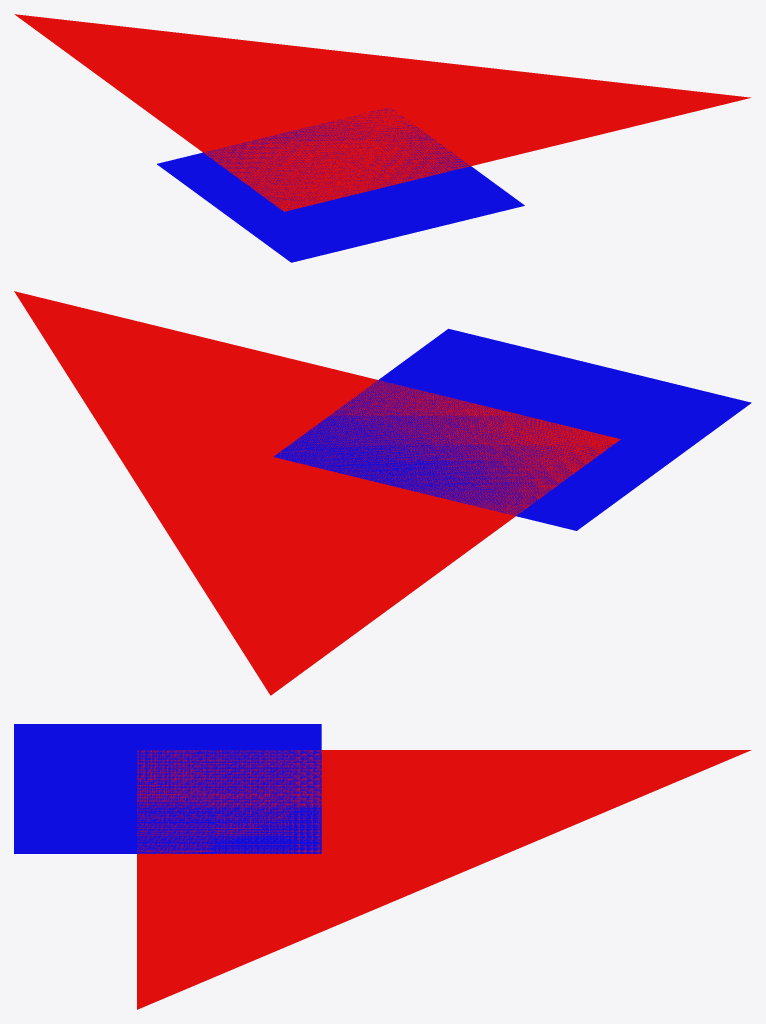
File: i1-sample.dae
3 renders of one model, top to bottom at view 1: azimuth 30°, elevation 25°; view 2: azimuth 150°, elevation 25°; view 3: azimuth 270°, elevation 25°, orthographic. The views are drawn at different scales.
Visible parts, largest first — view 1: LibraryTriangleNode, DirectPolyNode; view 2: LibraryTriangleNode, DirectPolyNode; view 3: LibraryTriangleNode, DirectPolyNode.
Part boxes in pixels (bbox=[...]): LibraryTriangleNode: bbox=[14, 14, 751, 211]; DirectPolyNode: bbox=[157, 108, 524, 262]; LibraryTriangleNode: bbox=[14, 291, 620, 695]; DirectPolyNode: bbox=[273, 328, 751, 530]; LibraryTriangleNode: bbox=[137, 750, 751, 1009]; DirectPolyNode: bbox=[14, 724, 321, 853].
Bounding box in the file's own units: 110 × 120 × 0.
